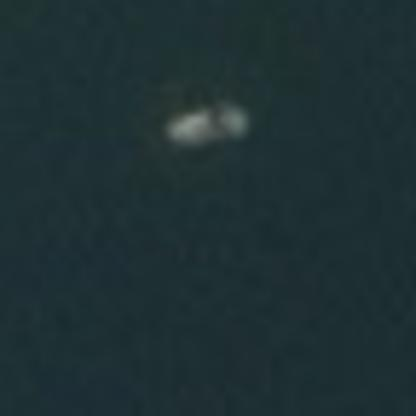ship: (160, 92, 260, 158)
